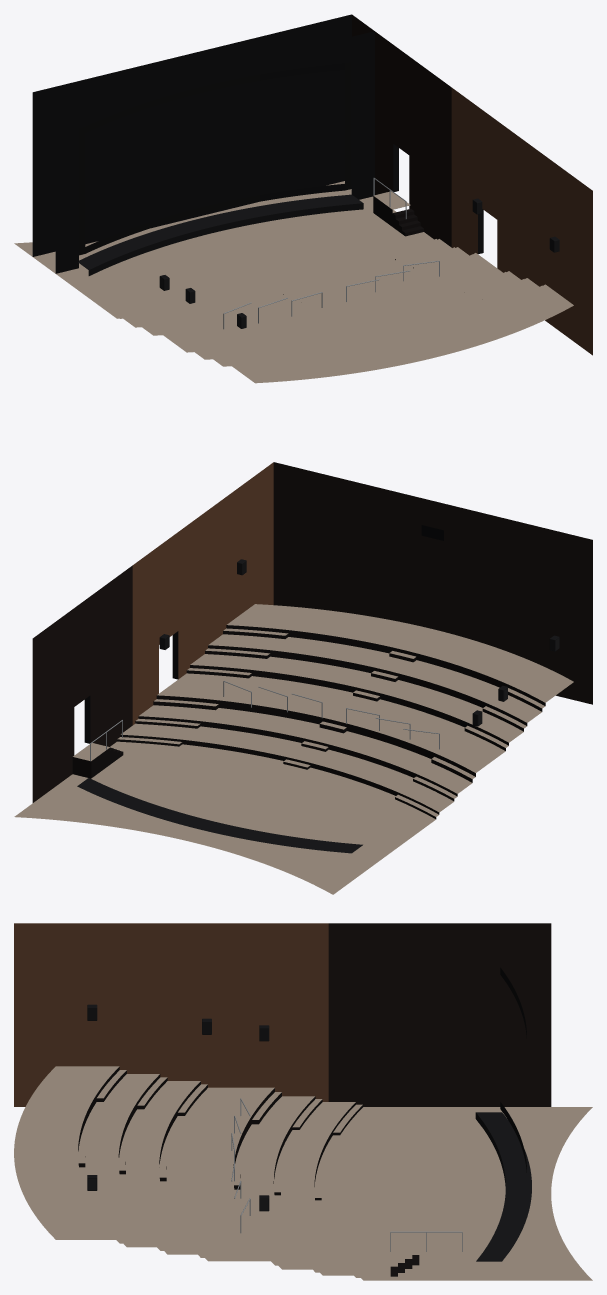
Rendered from hallI.glb.
3 views of the same model, one above another, from view 1: azimuth 30°, elevation 25°; view 2: azimuth 150°, elevation 25°; view 3: azimuth 270°, elevation 25° (orthographic). The views are drawn at different scales.
Visible parts, largest first — view 1: hallI; view 2: hallI; view 3: hallI.
Boxes of the visible parts, x1,y1,x2,y2 form: hallI: [14, 14, 592, 383]; hallI: [14, 462, 592, 894]; hallI: [14, 923, 592, 1280].
Bounding box in the file's own units: 17.5 × 8.49 × 24.25.
